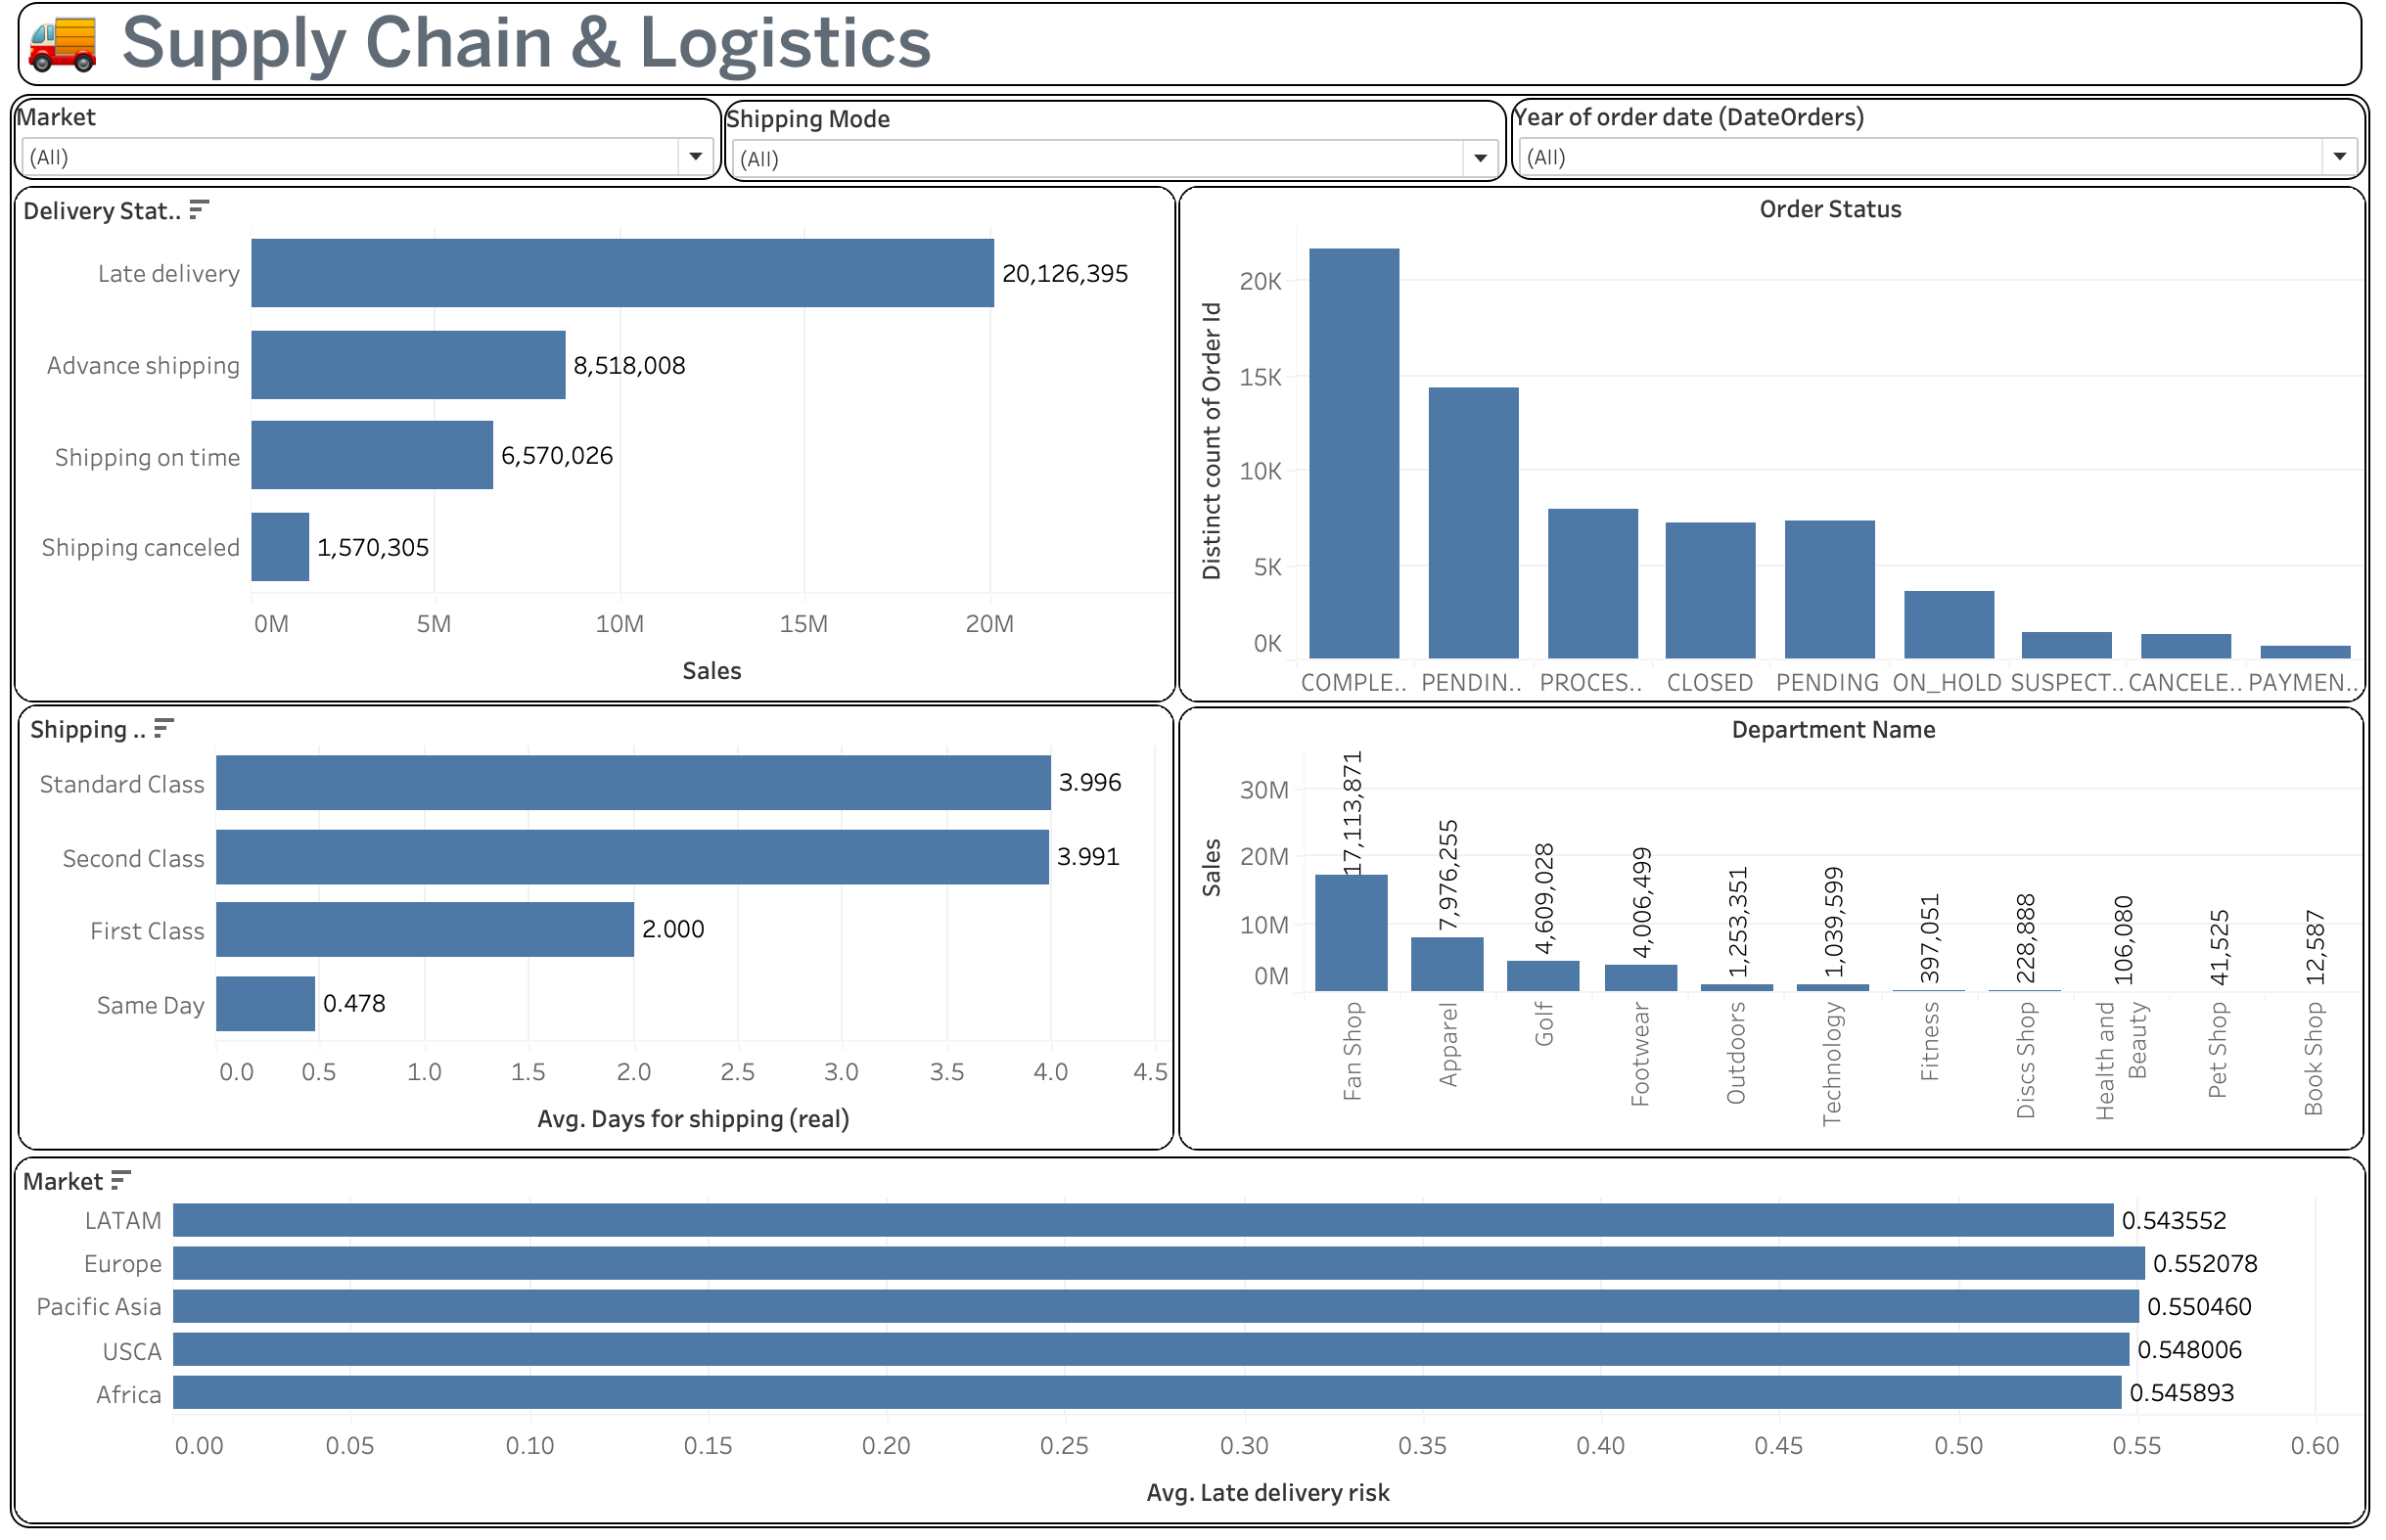

Layout of this report page (visuals, bound fields, positions):
{"tool":"tableau","page":{"name":"🚚 Supply Chain & Logistics","canvas":[1222,800],"ordinal":2},"visuals":[{"type":"title","box":[8,8,1206,51]},{"type":"filter","title":"📦 Sales by Delivery Status","param":"[federated.0ue46na07isqf50zyf6wb1y4oivp].[none:Market:nk]","box":[10,61,362,42]},{"type":"filter","title":"📦 Sales by Delivery Status","param":"[federated.0ue46na07isqf50zyf6wb1y4oivp].[yr:order date (DateOrders):ok]","box":[775,61,437,42]},{"type":"filter","title":"📦 Sales by Delivery Status","param":"[federated.0ue46na07isqf50zyf6wb1y4oivp].[none:Shipping Mode:nk]","box":[373,62,400,42]},{"type":"worksheet","title":"📦 Sales by Delivery Status","mark":"Automatic","rows":["Delivery Status"],"cols":["Sales"],"box":[10,106,594,264]},{"type":"worksheet","title":"📋 Sales by Order Status","mark":"Automatic","rows":["Order Id"],"cols":["Order Status"],"box":[605,106,607,264]},{"type":"worksheet","title":"🚛 Avg Shipping Days by Shipping Mode","mark":"Automatic","rows":["Shipping Mode"],"cols":["Days for shipping (real)"],"box":[12,371,591,228]},{"type":"worksheet","title":"🏢 Sales by Department","mark":"Automatic","rows":["Sales"],"cols":["Department Name"],"box":[605,372,606,227]},{"type":"worksheet","title":"🌎 Late Delivery Risk by Market","mark":"Automatic","rows":["Market"],"cols":["Late_delivery_risk"],"box":[10,602,1202,188]}]}

Visuals, with their boxes in screenshot pixels (x1, y1, x2, y2), scaled from the page's 1222x800 canvas onto the 2386x1540 screenshot:
title: <bbox>16, 16, 2370, 113</bbox>
"📦 Sales by Delivery Status" filter: <bbox>20, 117, 726, 199</bbox>
"📦 Sales by Delivery Status" filter: <bbox>1513, 117, 2366, 199</bbox>
"📦 Sales by Delivery Status" filter: <bbox>728, 119, 1509, 201</bbox>
"📦 Sales by Delivery Status" worksheet: <bbox>20, 204, 1179, 712</bbox>
"📋 Sales by Order Status" worksheet: <bbox>1181, 204, 2366, 712</bbox>
"🚛 Avg Shipping Days by Shipping Mode" worksheet: <bbox>23, 714, 1177, 1154</bbox>
"🏢 Sales by Department" worksheet: <bbox>1181, 716, 2364, 1154</bbox>
"🌎 Late Delivery Risk by Market" worksheet: <bbox>20, 1158, 2366, 1520</bbox>
